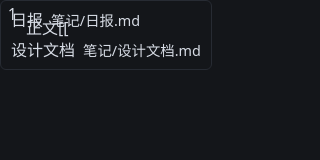
Test case: 真实装配：输入 `[ [` 弹出候选 › 点击候选项也能确认
The image size is (320, 160).
Step 1. Press the mouse on the option "设计文档 笔记/设计文档.md" → (106, 50), box x1=5 y1=35 x2=207 y2=65
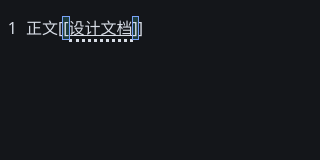
expect the text box labelled "正文[ [设计文档]]" is shown: met, box x1=26 y1=17 x2=143 y2=42
